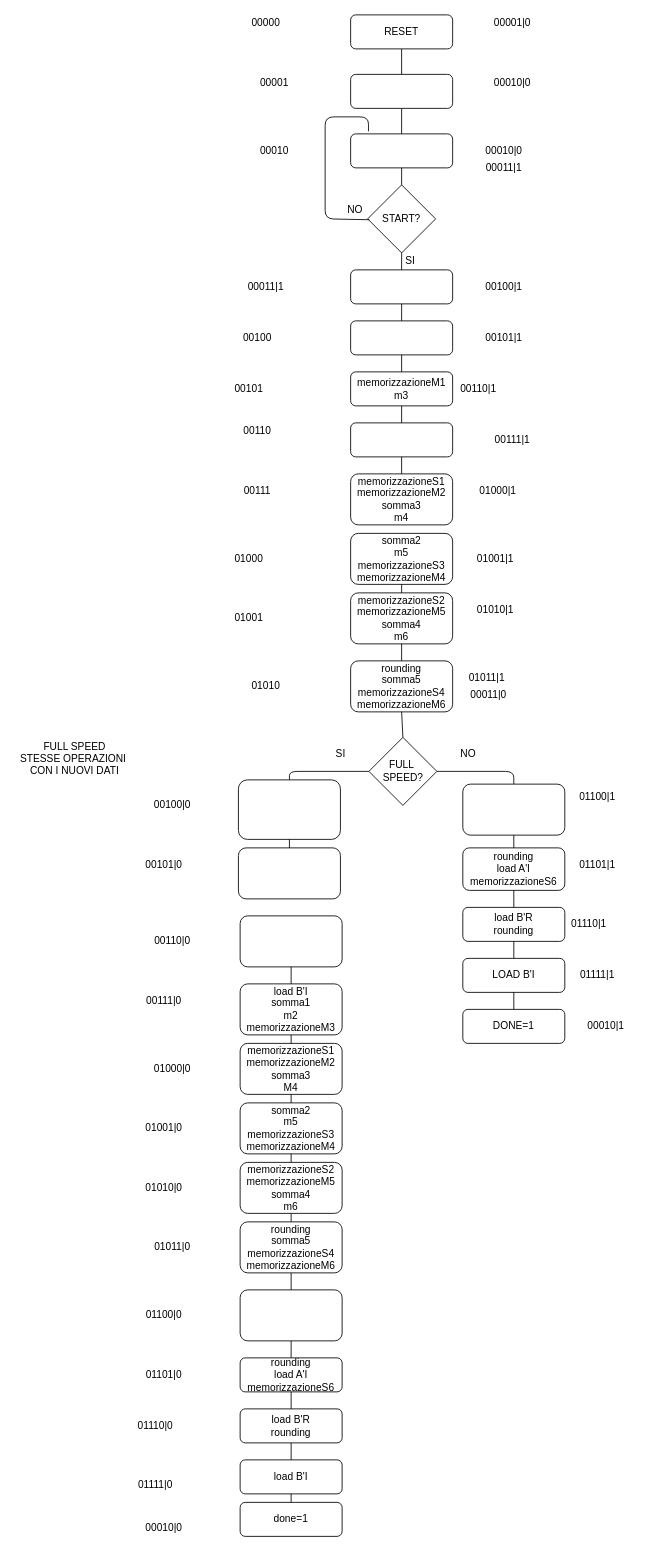
This 645x1551 diagram has some shape labels left out. Here are the shapes that lost their labels. From the top down, the centre of each, then its label:
the point at 401,91: LOAD W
the point at 401,150: IDLE
the point at 401,286: WAIT
the point at 401,337: M1
the point at 401,439: somma1 m2 memorizzazioneM3
the point at 289,809: loadA'R memorizzaioneS5 rounding somma6 load nuovi dati
the point at 513,809: load A'R memorizzazioneS5 rounding somma6
the point at 289,873: round load A'I memorizzazioneS6 m1
the point at 290,941: load B'R rounding memorizzazioneM1 m3
the point at 290,1315: loadA'R memorizzazioneS5 rounding somma6
